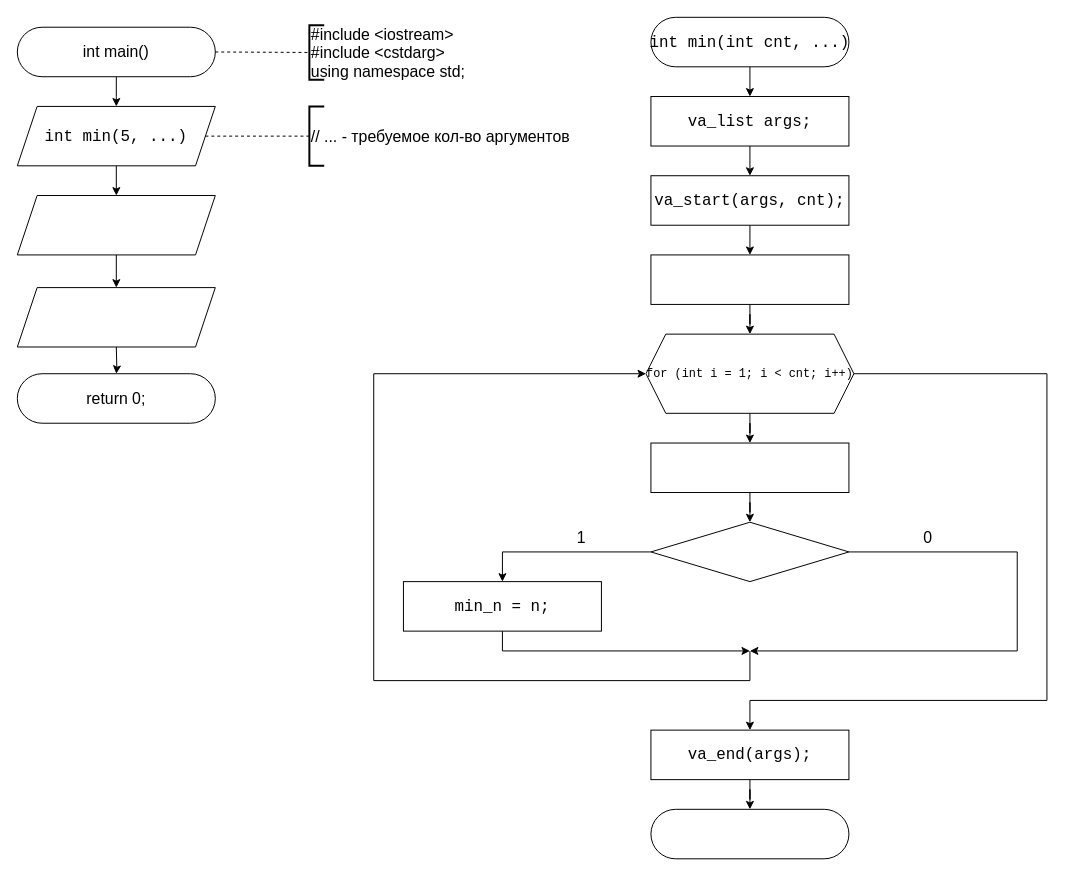
The diagram is 1072 pixels wide and 876 high, and some of its shapes have lost their labels. Each missing label, with the centre of its shape:
if ( n < min_n ): pixel 749 551
int min (10 , ...): pixel 115 225
int min (12 , ...): pixel 115 317
int min_n = va_arg ( args , int );: pixel 749 279
int n = va_arg(args, int);: pixel 749 467
return min_n ;: pixel 749 833
